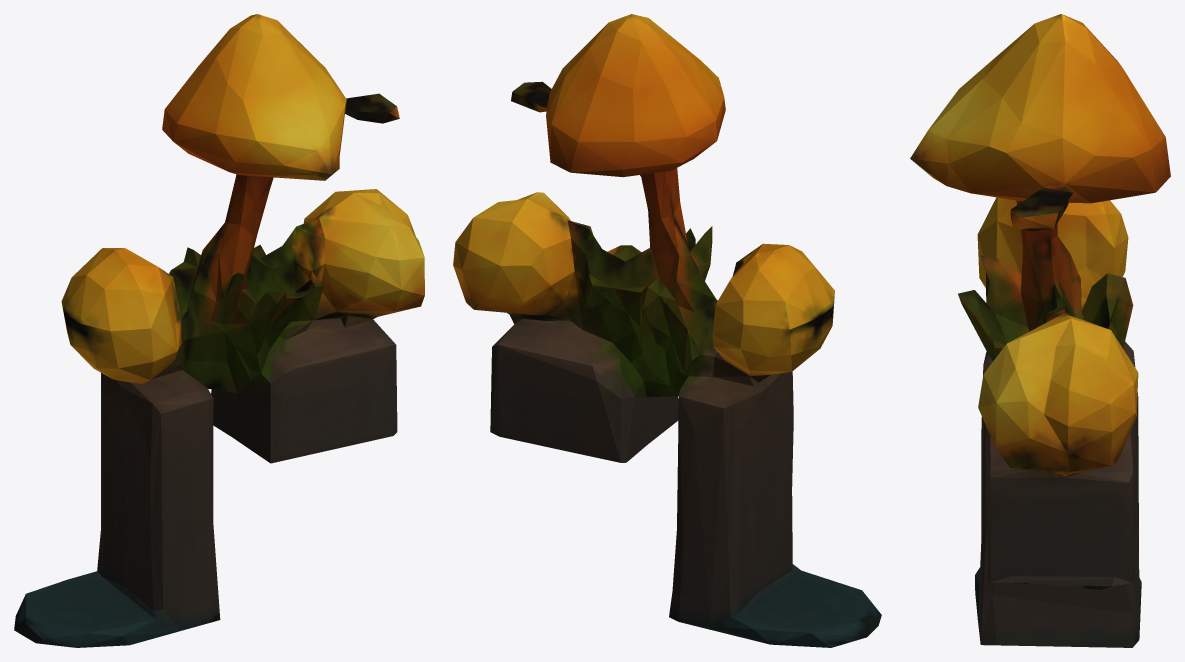
3 renders of one model, left to right at view 1: azimuth 30°, elevation 25°; view 2: azimuth 150°, elevation 25°; view 3: azimuth 270°, elevation 25°, orthographic. The views are drawn at different scales.
Parts seen in each view (by area): view 1: geometry_0.019_Baked; view 2: geometry_0.019_Baked; view 3: geometry_0.019_Baked.
Boxes of the visible parts, x1,y1,x2,y2 form: geometry_0.019_Baked: (14, 14, 424, 647); geometry_0.019_Baked: (453, 14, 881, 647); geometry_0.019_Baked: (910, 14, 1170, 647).
Size of the model in its own units: 18.19 by 24.46 by 8.58.
